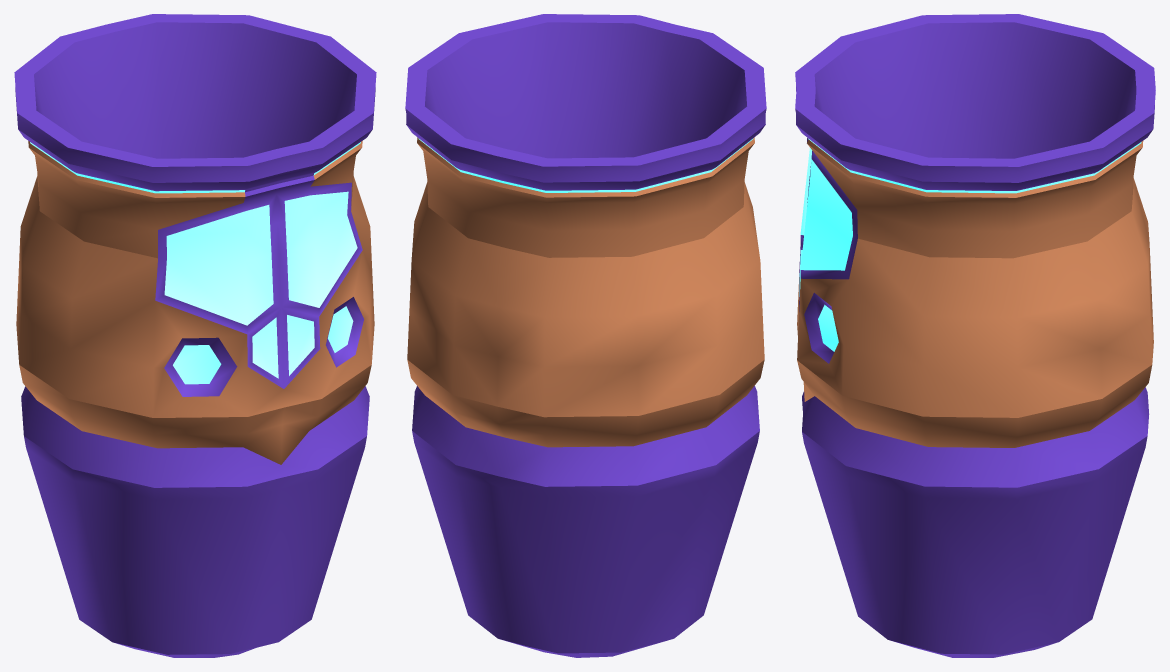
Rendered from Morty.fbx.
3 views of the same model, side by side, from view 1: azimuth 30°, elevation 25°; view 2: azimuth 150°, elevation 25°; view 3: azimuth 270°, elevation 25° (orthographic).
Visible parts, largest first — view 1: Plane.002; view 2: Plane.002; view 3: Plane.002.
Boxes of the visible parts, box(x1,y1,x2,y2) form: Plane.002: box(14, 14, 376, 657); Plane.002: box(405, 14, 766, 657); Plane.002: box(795, 14, 1155, 657).
Bounding box in the file's own units: 163 × 265 × 163.
